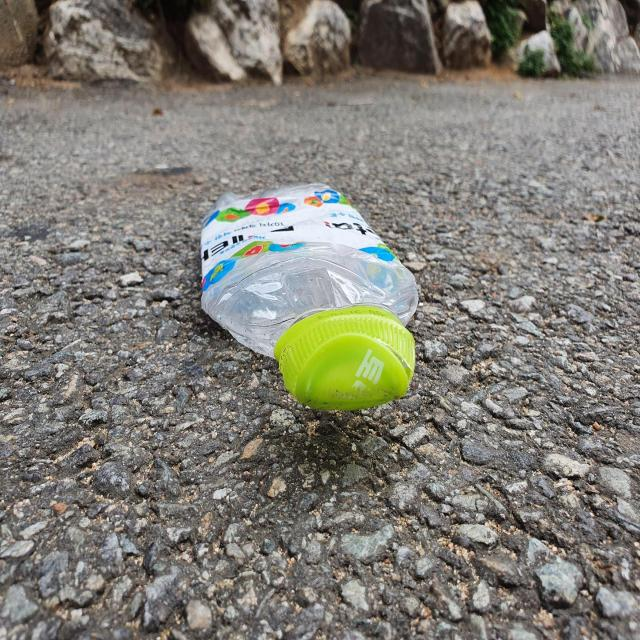plastic: (200, 183, 419, 410)
